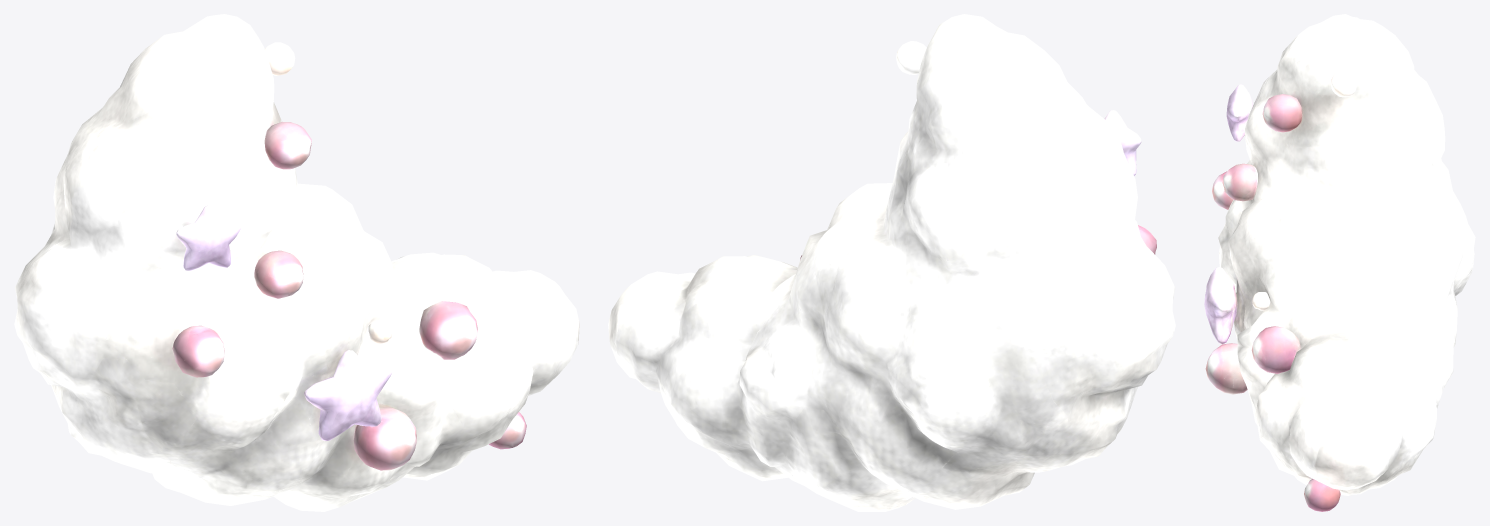
Rendered from snow360-sky-cloud-3.glb.
The picture shows the model from 3 angles, left to right: view 1: azimuth 30°, elevation 25°; view 2: azimuth 150°, elevation 25°; view 3: azimuth 270°, elevation 25°; orthographic projection. The views are drawn at different scales.
Parts seen in each view (by area): view 1: Cloud3; view 2: Cloud3; view 3: Cloud3.
Boxes of the visible parts, x1,y1,x2,y2 form: Cloud3: (14,14,579,511); Cloud3: (608,14,1175,511); Cloud3: (1204,14,1475,511).
Size of the model in its own units: 0.957 by 0.8477 by 0.5146.
1 material, 1 textured.
